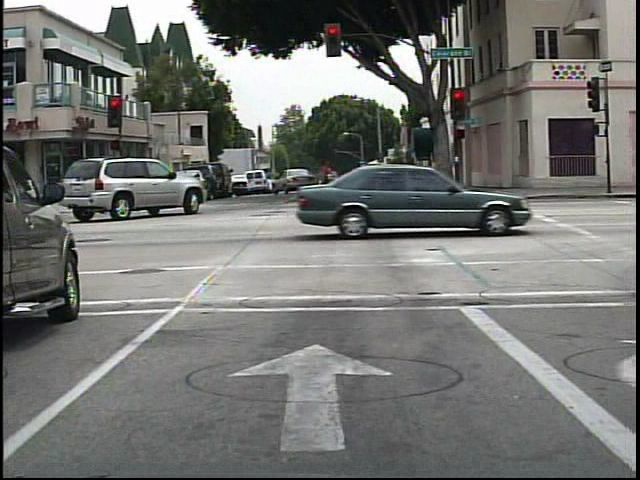person: (313, 158, 342, 203)
